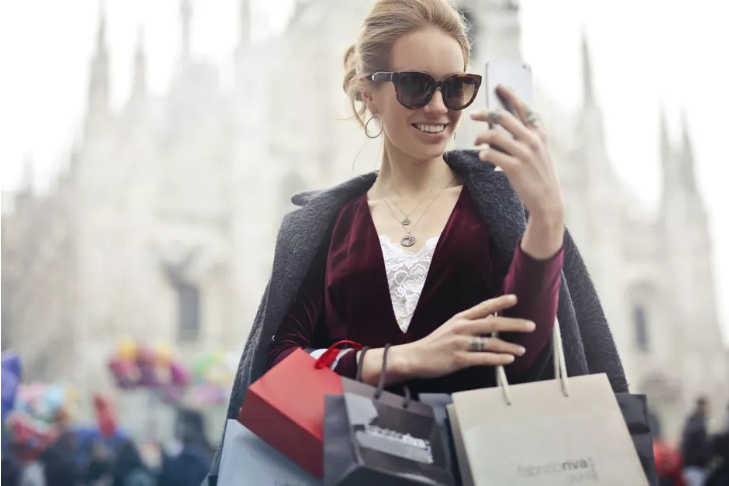face: (384, 31, 465, 158)
